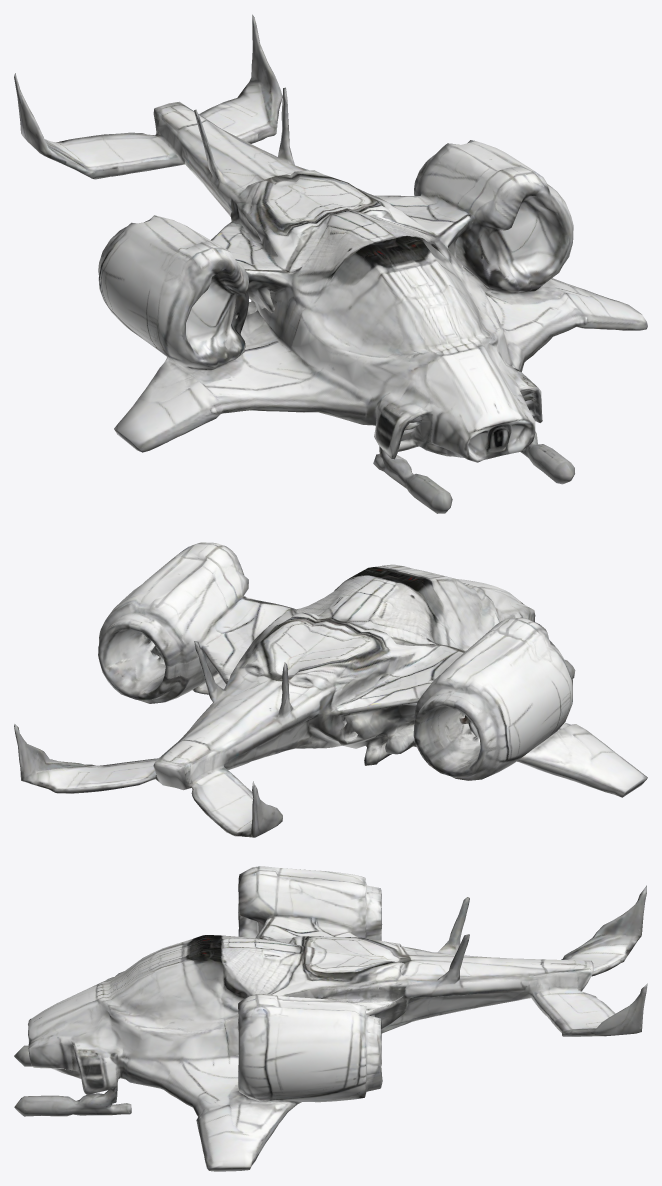
The model's file is Starship_Sketch_0205231322_texture.glb.
3 renders of one model, top to bottom at view 1: azimuth 30°, elevation 25°; view 2: azimuth 150°, elevation 25°; view 3: azimuth 270°, elevation 25°, orthographic. The views are drawn at different scales.
Bounding box in the file's own units: 1.57 × 0.612 × 2.
Materials: 1 (1 with a texture image).
